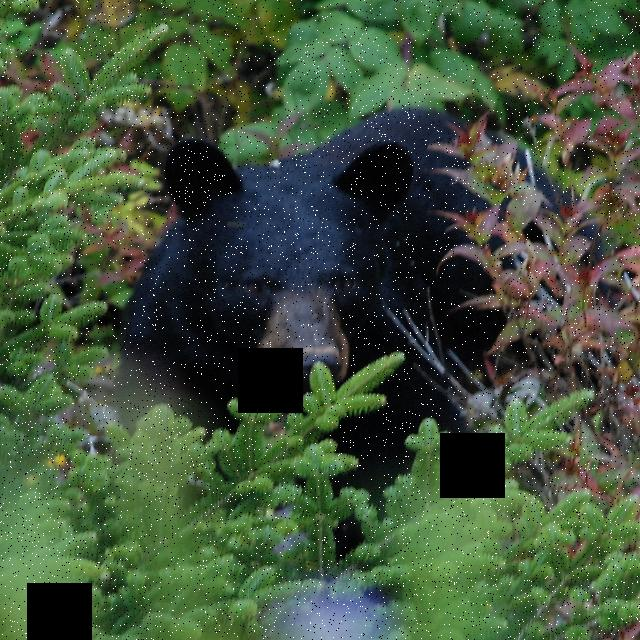Bear: (102, 97, 612, 552)
